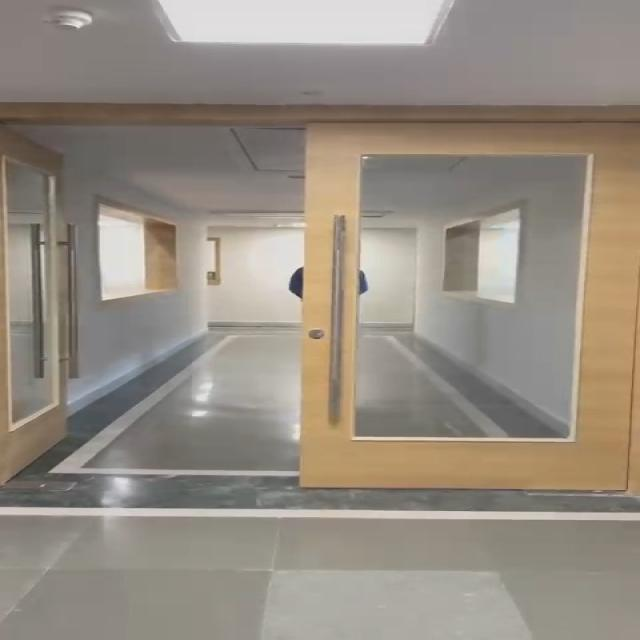door: (288, 122, 640, 486), (0, 116, 74, 493)
floor: (0, 500, 640, 640), (166, 311, 285, 498)
wall: (75, 170, 300, 350)
